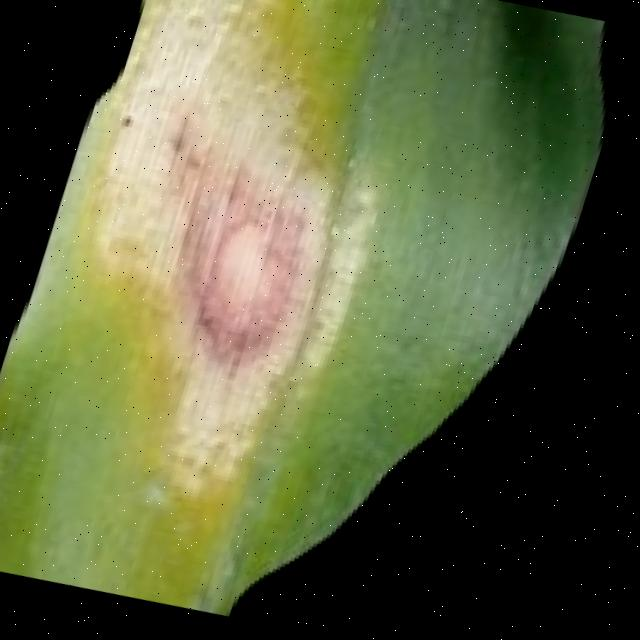mite: (225, 0, 637, 624), (564, 29, 637, 156), (597, 30, 637, 52)
sunburn: (100, 105, 369, 396)
